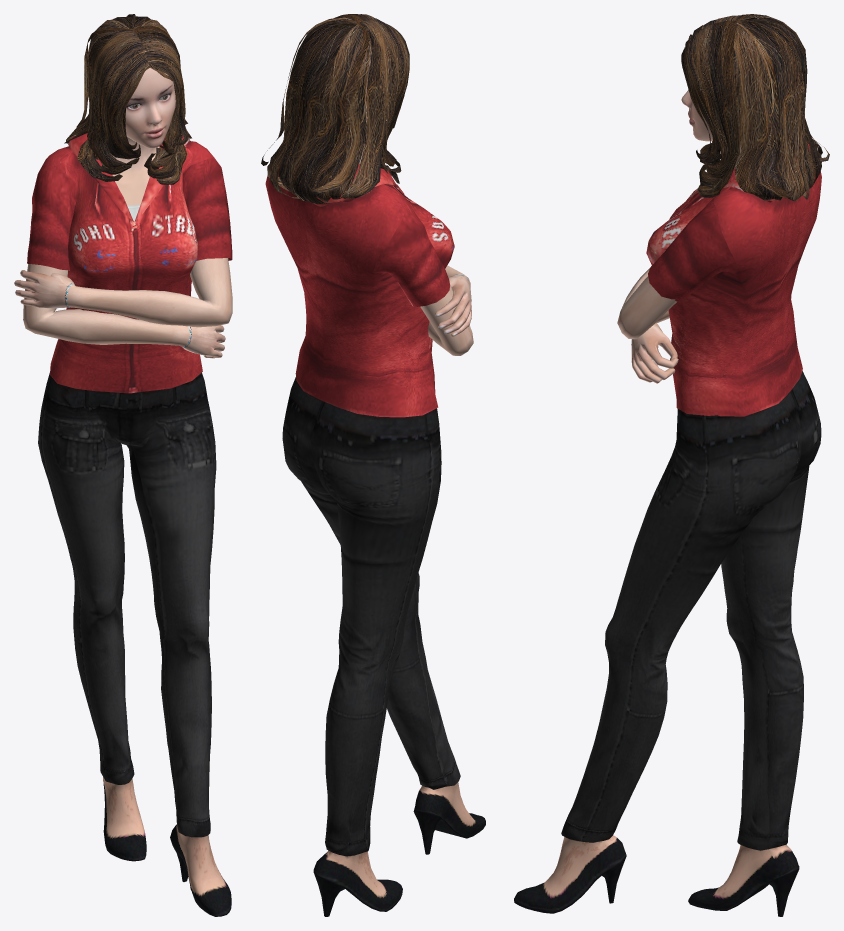
Rendered from woman4.fbx.
3 views of the same model, side by side, from view 1: azimuth 30°, elevation 25°; view 2: azimuth 150°, elevation 25°; view 3: azimuth 270°, elevation 25° (orthographic). The views are drawn at different scales.
Parts seen in each view (by area): view 1: Female3_4; view 2: Female3_4; view 3: Female3_4.
Boxes of the visible parts, x1=… form: Female3_4: x1=14, y1=14, x2=232, y2=916; Female3_4: x1=261, y1=14, x2=485, y2=916; Female3_4: x1=514, y1=14, x2=829, y2=916.
Size of the model in its own units: 4269 by 17572 by 5614.
